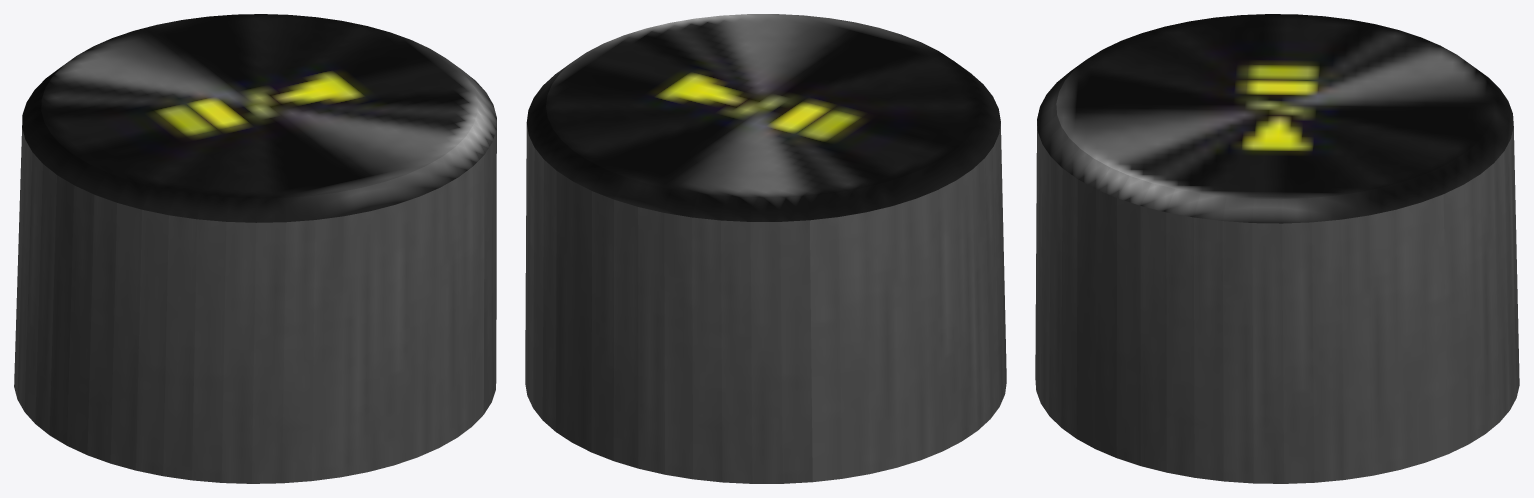
File: play-left.glb
The picture shows the model from 3 angles, left to right: view 1: azimuth 30°, elevation 25°; view 2: azimuth 150°, elevation 25°; view 3: azimuth 270°, elevation 25°; orthographic projection.
Parts seen in each view (by area): view 1: Cylinder.854; view 2: Cylinder.854; view 3: Cylinder.854.
Part boxes in pixels (x1,y1,x2,y2): Cylinder.854: (14,14,496,483); Cylinder.854: (525,14,1006,483); Cylinder.854: (1035,14,1519,483).
Bounding box in the file's own units: 0.0639 × 0.0403 × 0.0639.
1 material, 1 textured.
